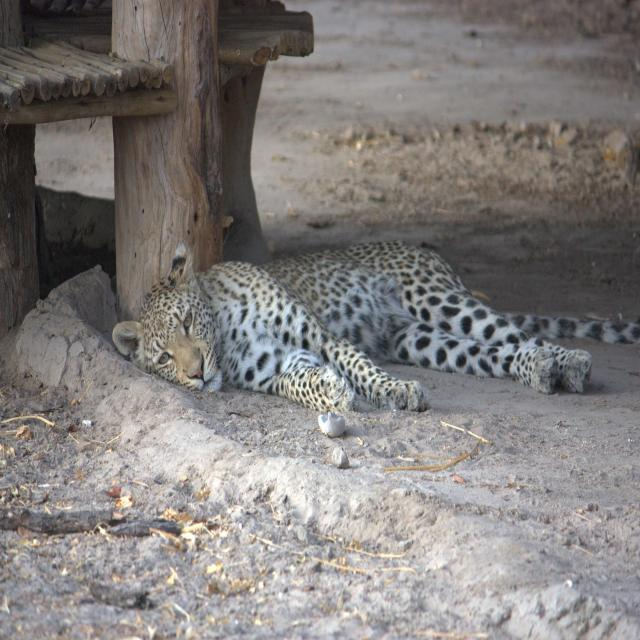Leopard: (115, 231, 633, 420)
